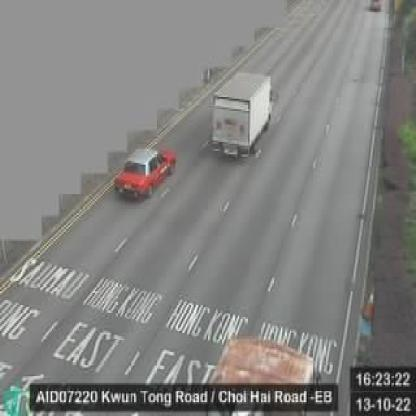Car: (114, 147, 177, 204)
Truck: (210, 70, 275, 159)
